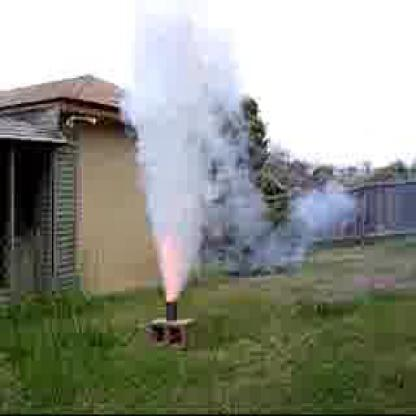Smoke: (140, 26, 224, 291)
